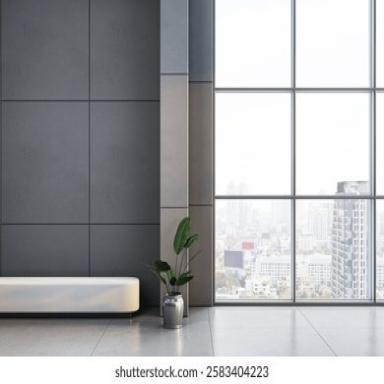glass_panel: (296, 182, 372, 302), (214, 199, 292, 302), (216, 93, 292, 195), (296, 93, 372, 195), (214, 0, 292, 88), (296, 0, 372, 88), (375, 199, 384, 300), (376, 92, 384, 195), (376, 0, 384, 88)
